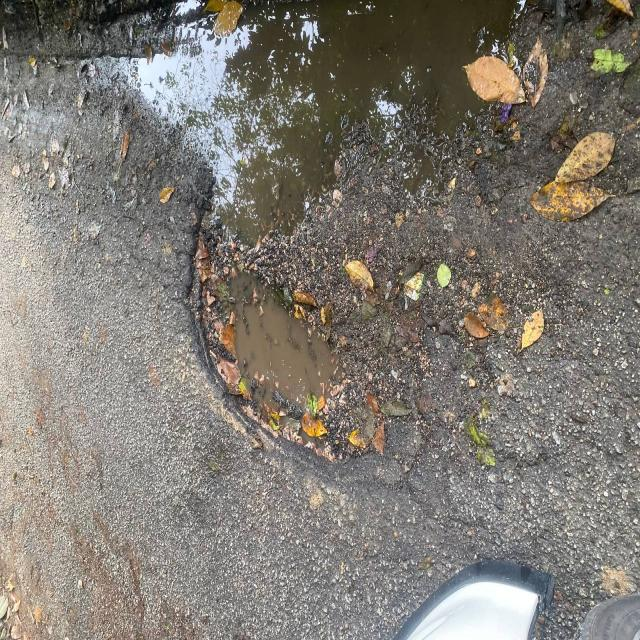Pothole: (156, 147, 454, 516)
